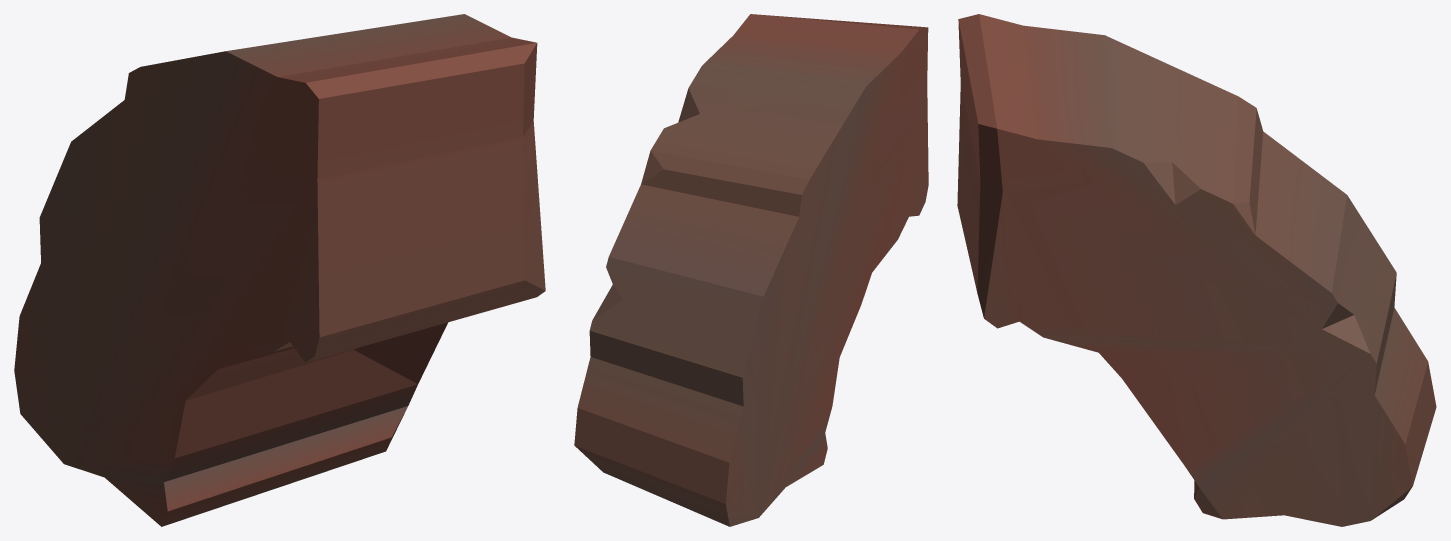
Rendered from SuperGrid_RingQuarter_010_Vlad.fbx.
3 views of the same model, side by side, from view 1: azimuth 30°, elevation 25°; view 2: azimuth 150°, elevation 25°; view 3: azimuth 270°, elevation 25° (orthographic). The views are drawn at different scales.
Visible parts, largest first — view 1: SuperGrid_RingQuarter.010; view 2: SuperGrid_RingQuarter.010; view 3: SuperGrid_RingQuarter.010.
Part boxes in pixels (x1=…): SuperGrid_RingQuarter.010: x1=14, y1=14, x2=545, y2=526; SuperGrid_RingQuarter.010: x1=574, y1=14, x2=928, y2=526; SuperGrid_RingQuarter.010: x1=957, y1=14, x2=1436, y2=526.
Bounding box in the file's own units: 10000 × 21944 × 21751.
